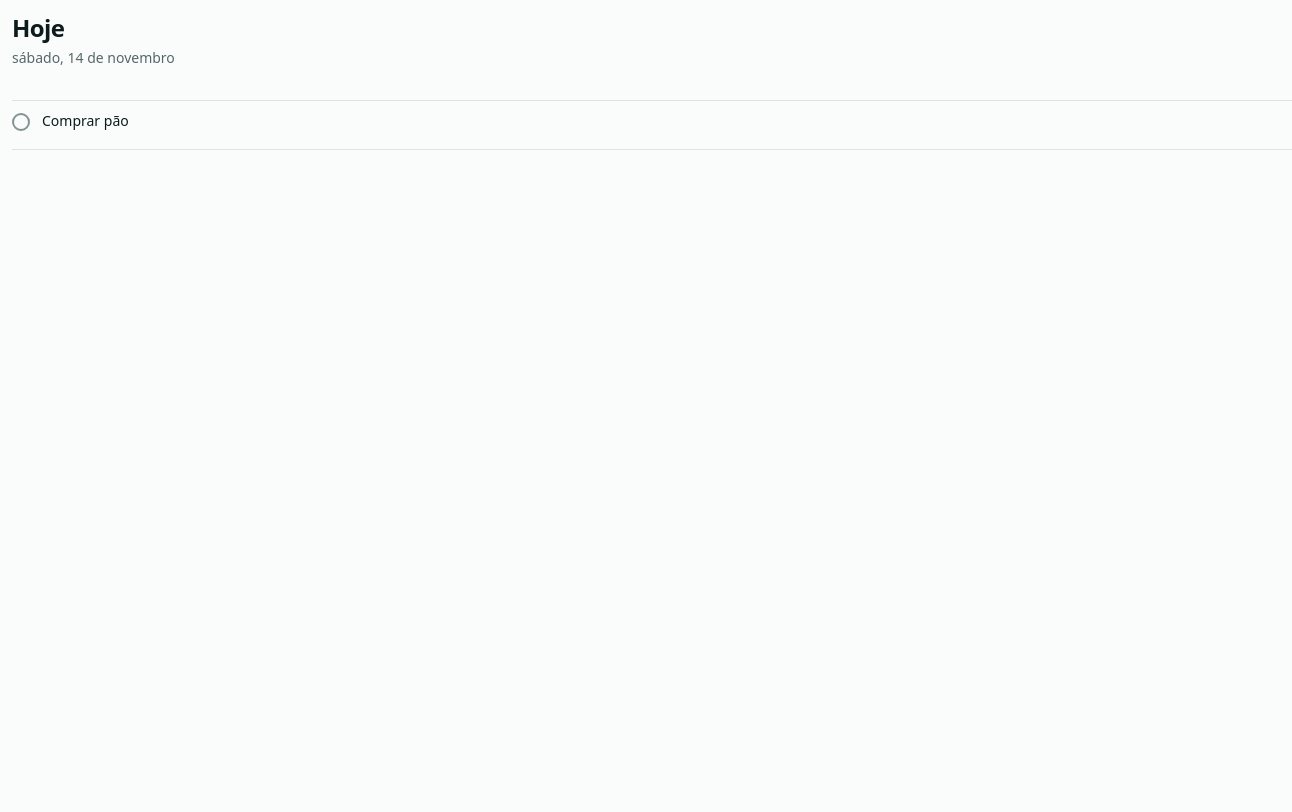
Test: TodayPage › se concluir falhar, a tarefa volta e aparece um aviso
Step 1. Click the checkbox named "Concluir \"Comprar pão\"" → (21,122), box top-left (12, 113), bottom-right (30, 131)
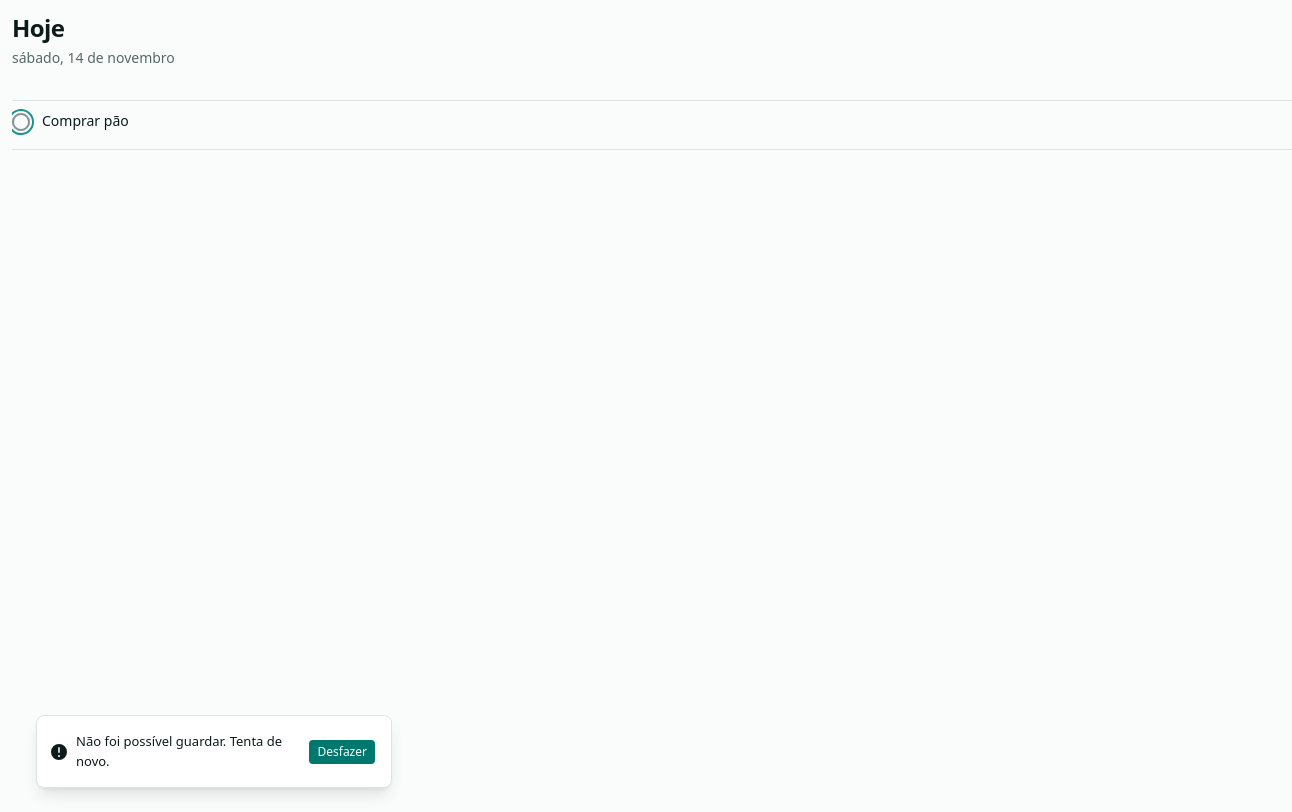
Expected: the text "Comprar pão" is shown, top-left (42, 111), bottom-right (129, 130)
Expected: the text "Não foi possível guardar. Tenta de novo." is shown, top-left (76, 732), bottom-right (304, 771)
